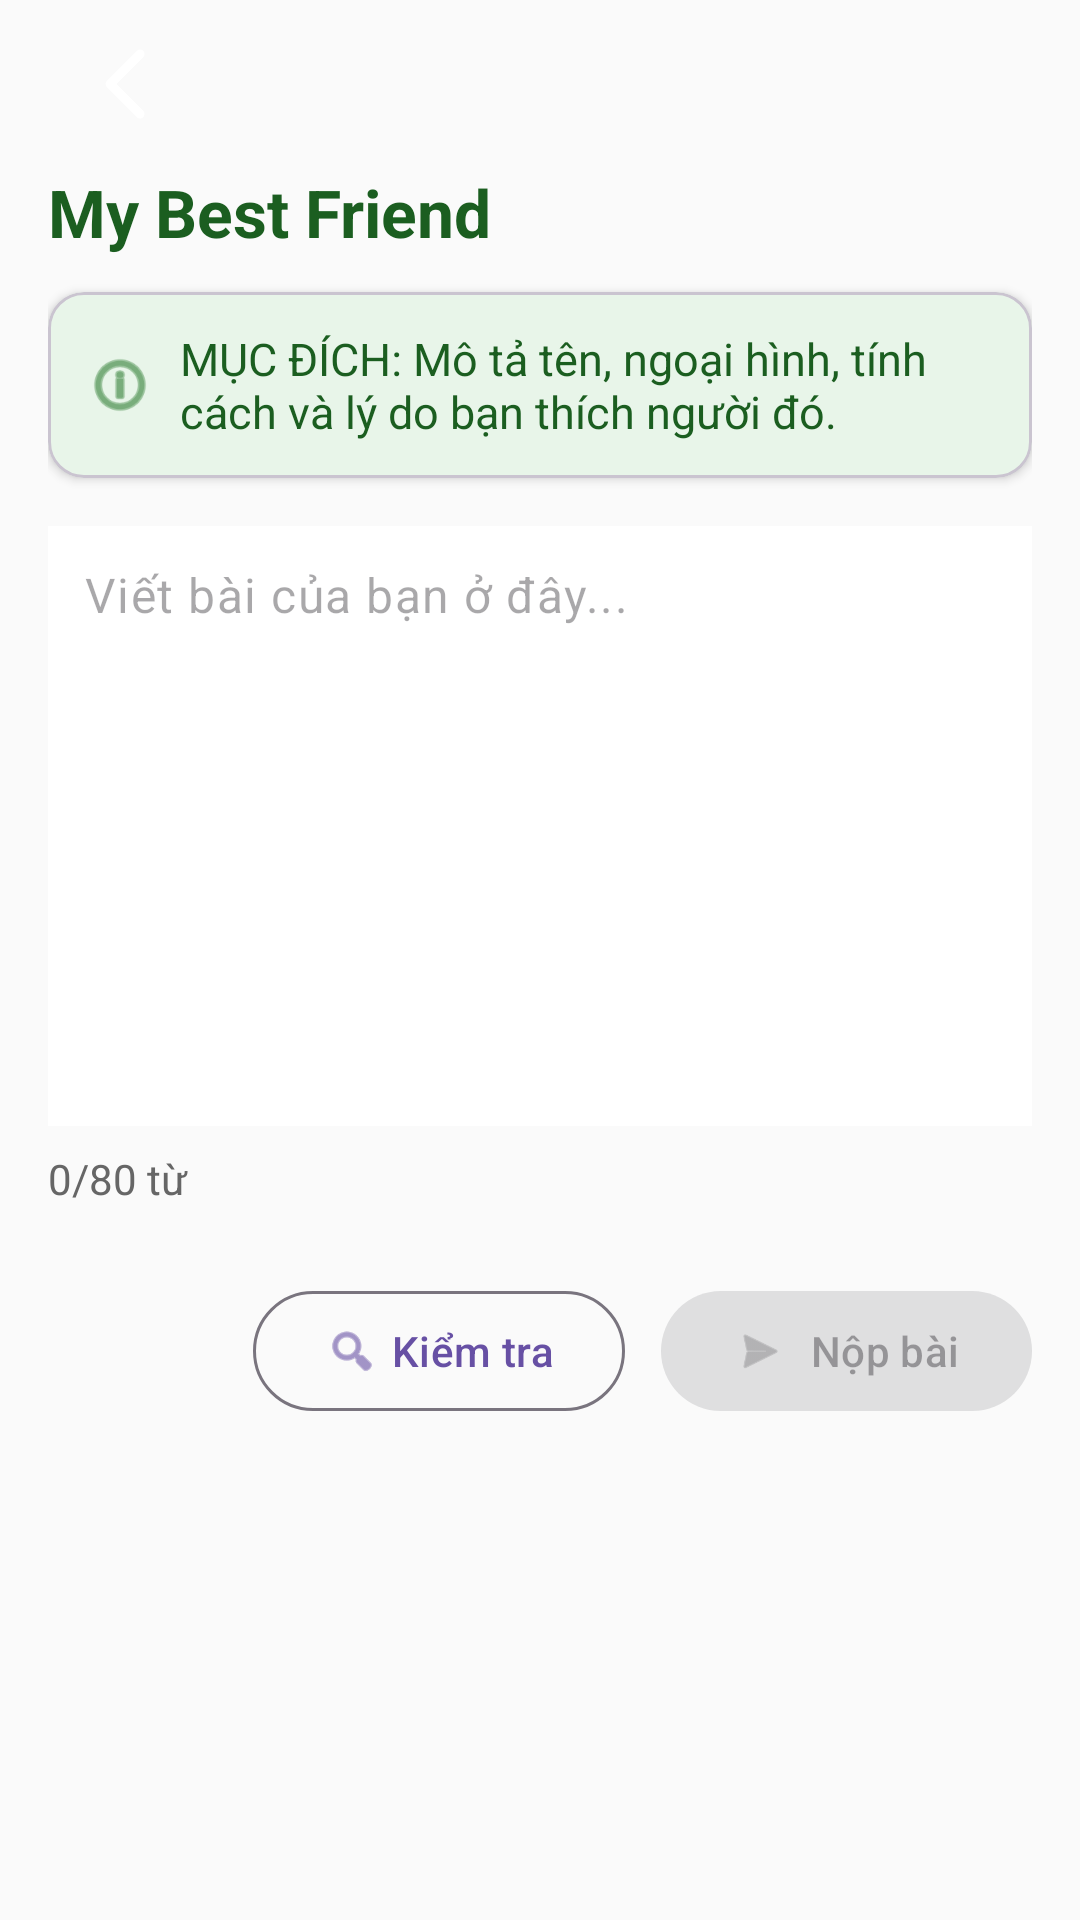

Icons on this 1080px x 1920px Android screen, each with the point to tap as point (x, y):
info details: point (120, 385)
